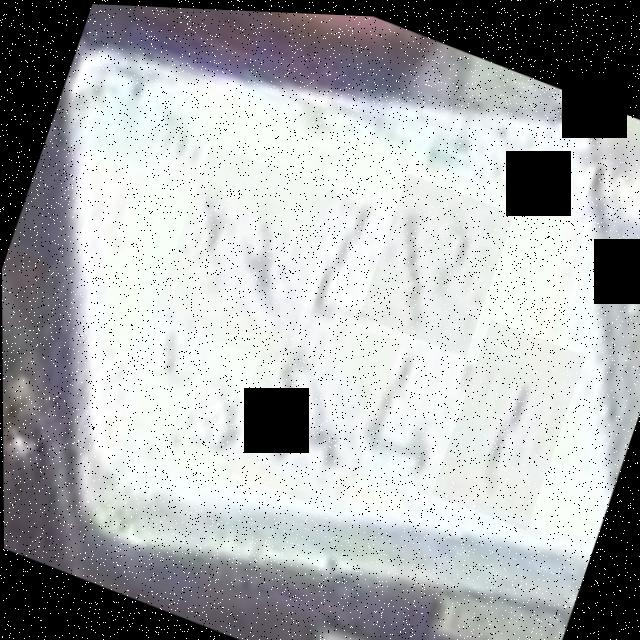6: (220, 292, 401, 514), (319, 295, 502, 510), (430, 313, 586, 527)
N: (151, 140, 341, 365)
P: (357, 167, 514, 354)
